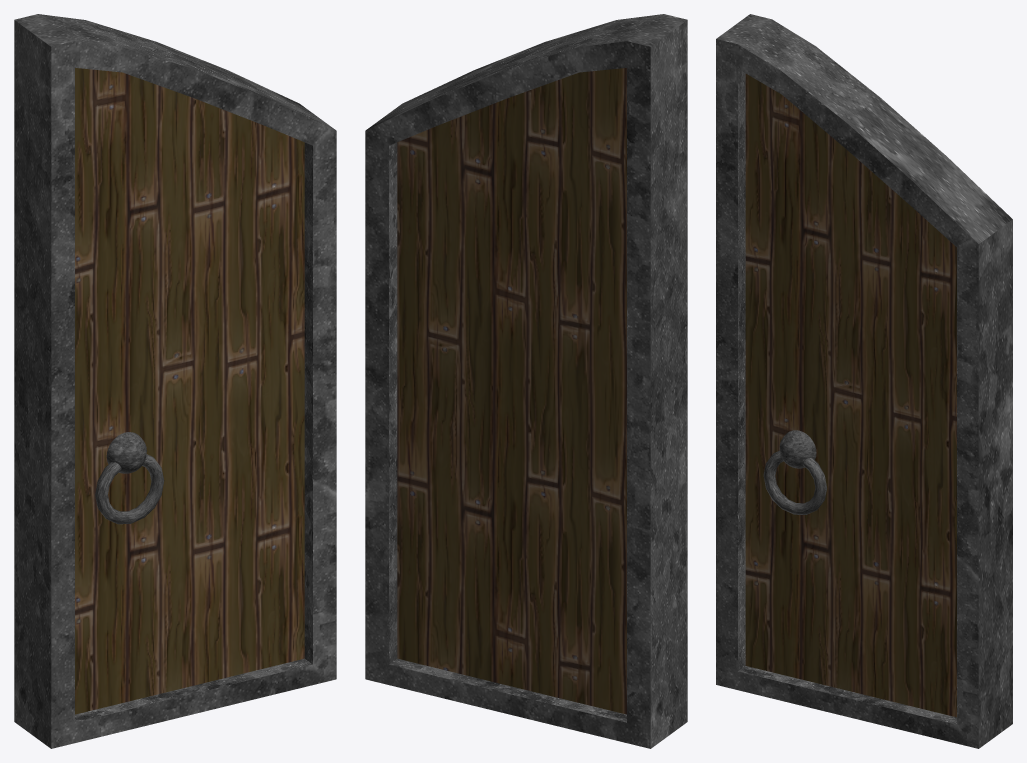
File: castle_gate_l.fbx
3 renders of one model, left to right at view 1: azimuth 30°, elevation 25°; view 2: azimuth 150°, elevation 25°; view 3: azimuth 330°, elevation 25°, orthographic. The views are drawn at different scales.
Visible parts, largest first — view 1: castle_door_l, pTorus2, pSphere2; view 2: castle_door_l; view 3: castle_door_l, pTorus2, pSphere2.
Boxes of the visible parts, x1=… form: castle_door_l: x1=14, y1=14, x2=336, y2=748; pTorus2: x1=95, y1=454, x2=164, y2=524; pSphere2: x1=106, y1=432, x2=146, y2=473; castle_door_l: x1=365, y1=14, x2=687, y2=748; castle_door_l: x1=716, y1=14, x2=1012, y2=748; pTorus2: x1=763, y1=450, x2=826, y2=514; pSphere2: x1=779, y1=430, x2=816, y2=468.
Bounding box in the file's own units: 200 × 470 × 48.33.
